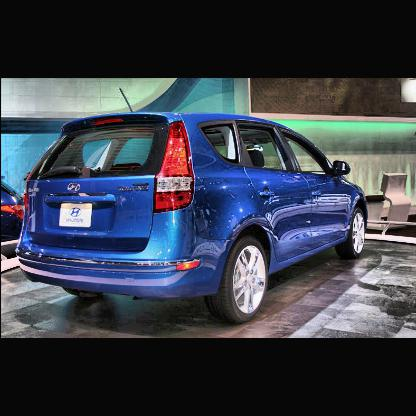Hyundai Elantra Touring Hatchback 2012: (15, 87, 370, 325)
